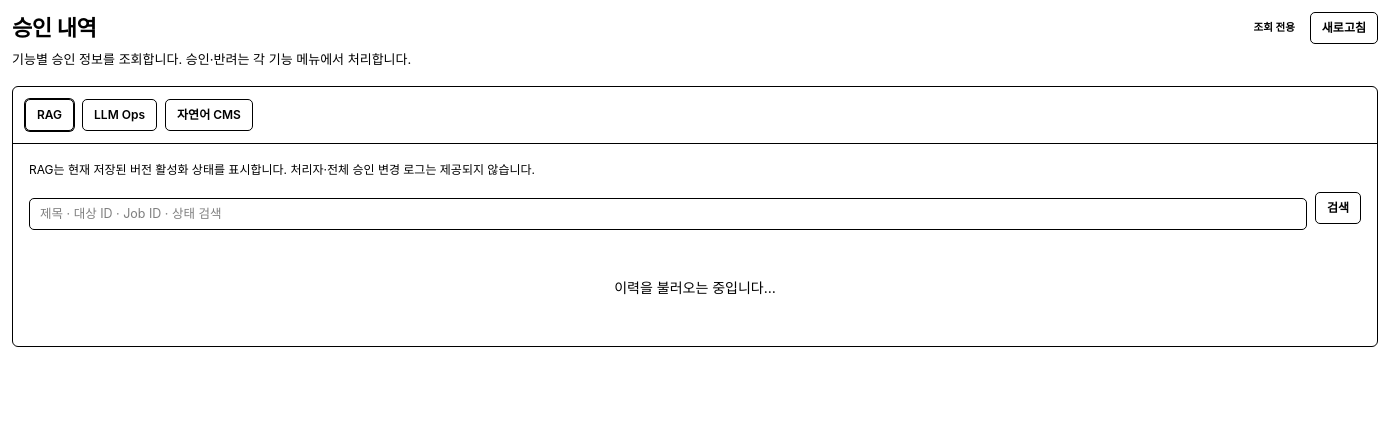
Scenario: late responses from an old tab cannot overwrite the selected tab
Click the tab "LLM Ops". click: (120, 114)
box: [82,98,157,130]
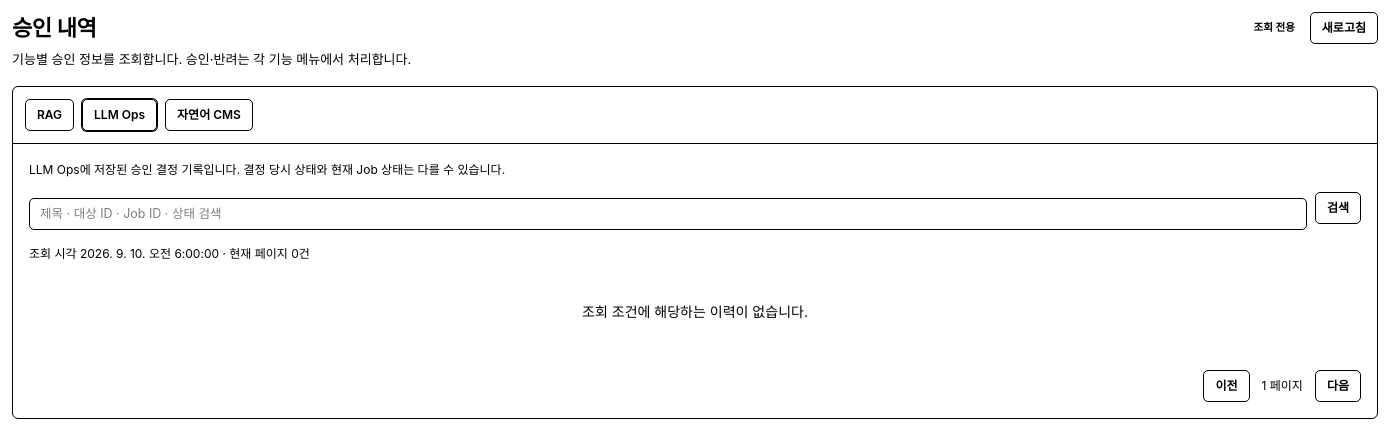
Expected: the text "조회 조건에 해당하는 이력이 없습니다." is shown, [582,302,808,320]
